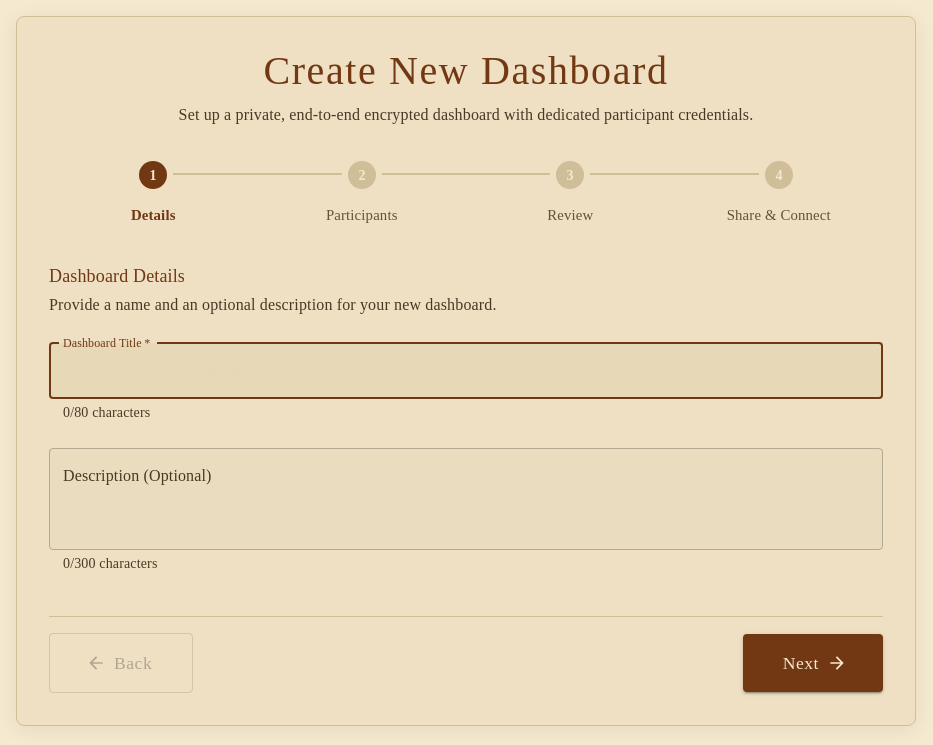
Test: DashboardCreationWizard (/new) › Step 2: Participant Credentials › renders empty state initially with prompt to add participants
The width and height of the screenshot is (933, 745).
Type "Alpha Dashboard" into the field labelled "Dashboard Title". click: (466, 371)
box: [49, 343, 883, 399]
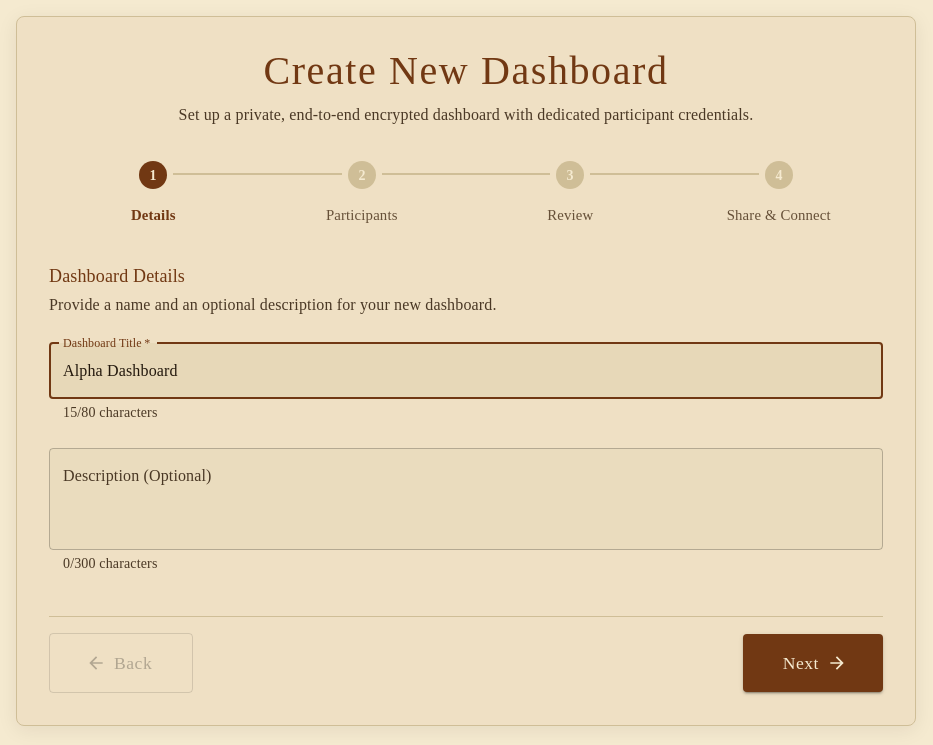
Click the button "Next". click: (813, 663)
box: [743, 634, 883, 692]
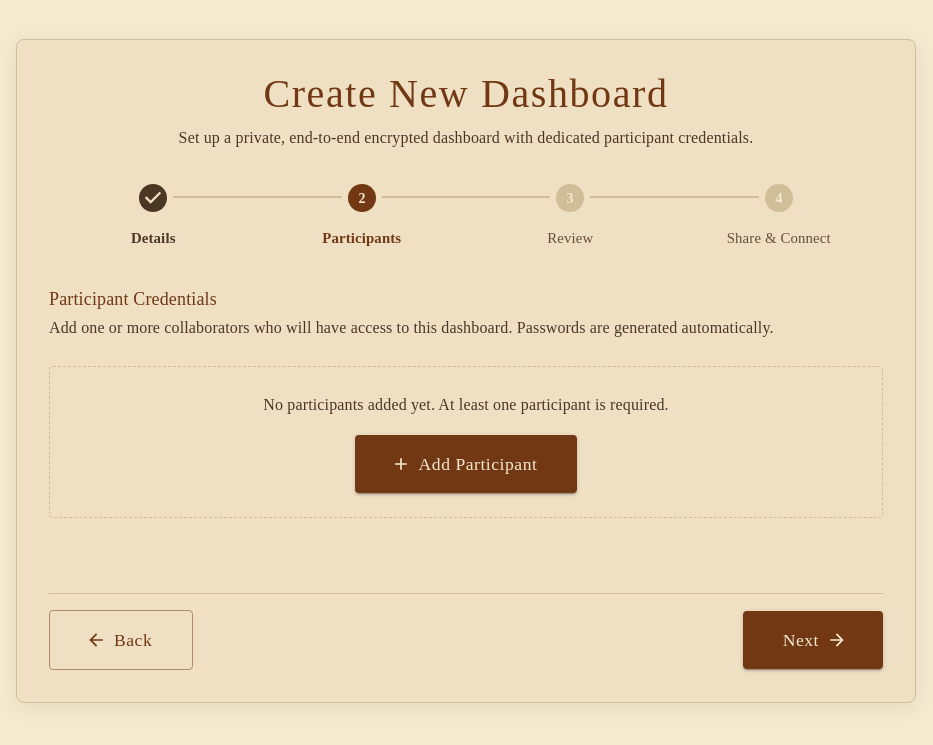
Expected: the heading "Participant Credentials" is shown, [49, 289, 217, 309]
Expected: the text "No participants added yet. At least one participant is required." is shown, [263, 396, 669, 413]
Expected: the button "Add Participant" is shown, [355, 435, 577, 494]
